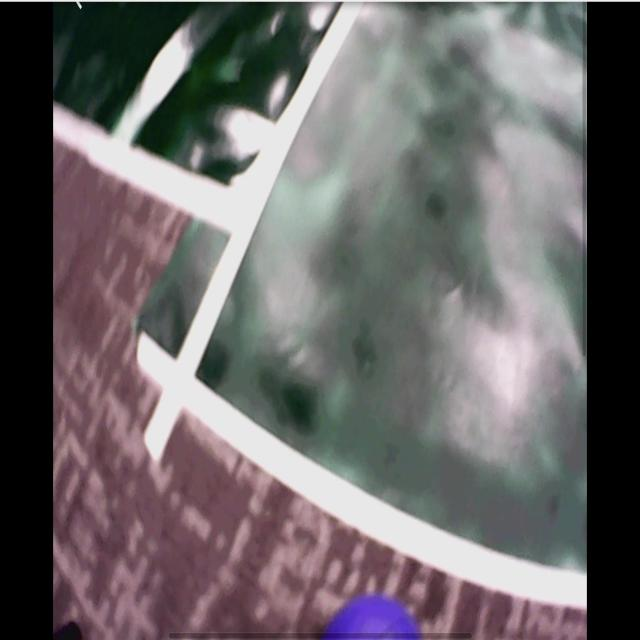ball: (321, 596, 422, 640)
